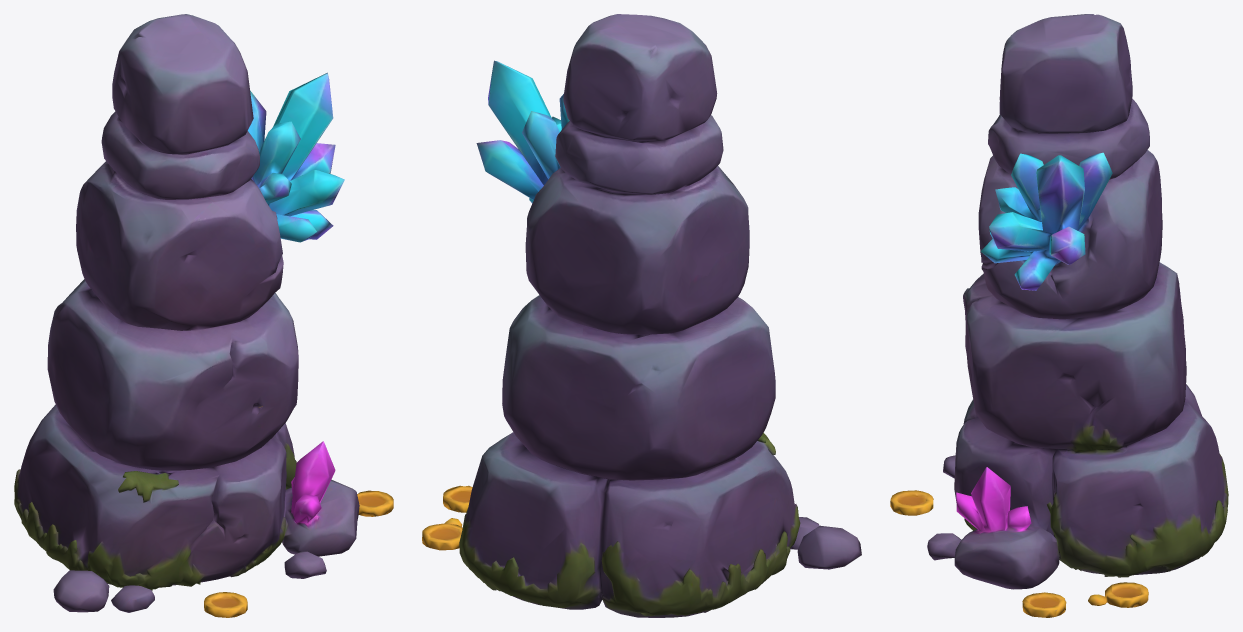
Rendered from kaya.glb.
3 renders of one model, left to right at view 1: azimuth 30°, elevation 25°; view 2: azimuth 150°, elevation 25°; view 3: azimuth 270°, elevation 25°, orthographic. The views are drawn at different scales.
Parts seen in each view (by area): view 1: tripo_node_0e984e46-8c82-4190-a973-8c1f3cd577fe; view 2: tripo_node_0e984e46-8c82-4190-a973-8c1f3cd577fe; view 3: tripo_node_0e984e46-8c82-4190-a973-8c1f3cd577fe.
Part boxes in pixels (left/top/right/bottom): tripo_node_0e984e46-8c82-4190-a973-8c1f3cd577fe: left=14, top=14, right=393, bottom=617; tripo_node_0e984e46-8c82-4190-a973-8c1f3cd577fe: left=422, top=14, right=861, bottom=617; tripo_node_0e984e46-8c82-4190-a973-8c1f3cd577fe: left=890, top=14, right=1228, bottom=617.
Bounding box in the file's own units: 0.7263 × 0.981 × 0.5968.
Materials: 1 (1 with a texture image).
